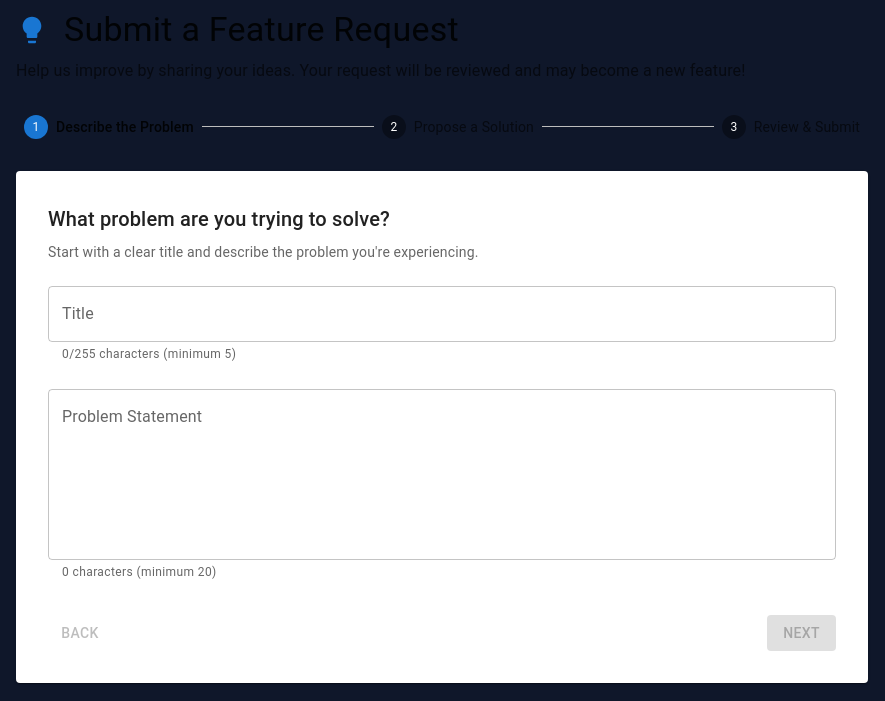
Test: SubmitFeatureRequest › Form Validation › shows character count for title
Type "Test" into the field labelled "Title" at (442, 314), box [48,286,836,342]
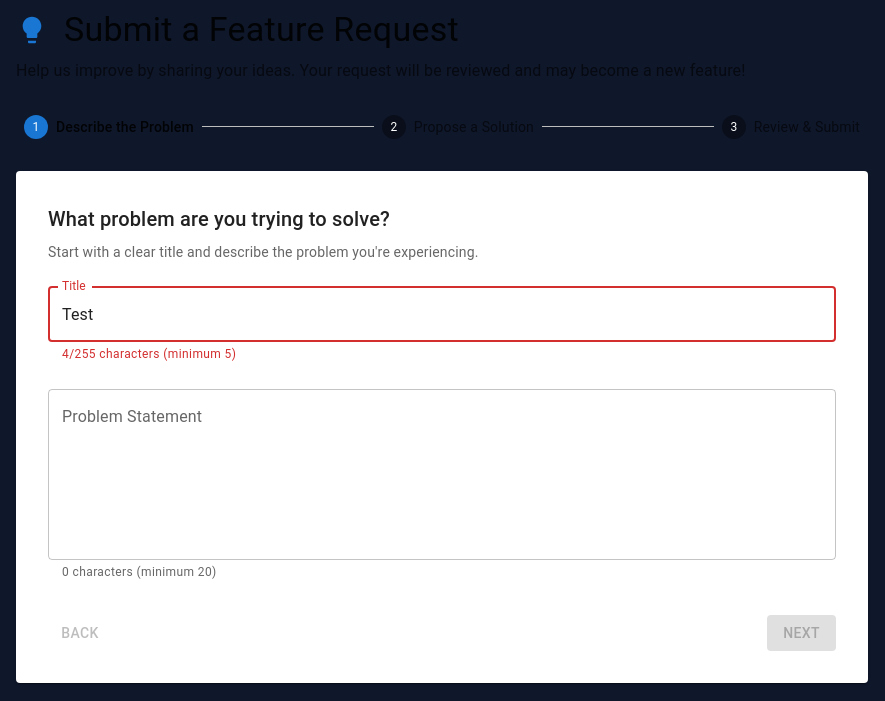
Result: the text "4/255 characters (minimum 5)" is shown at [62,347,236,361]
